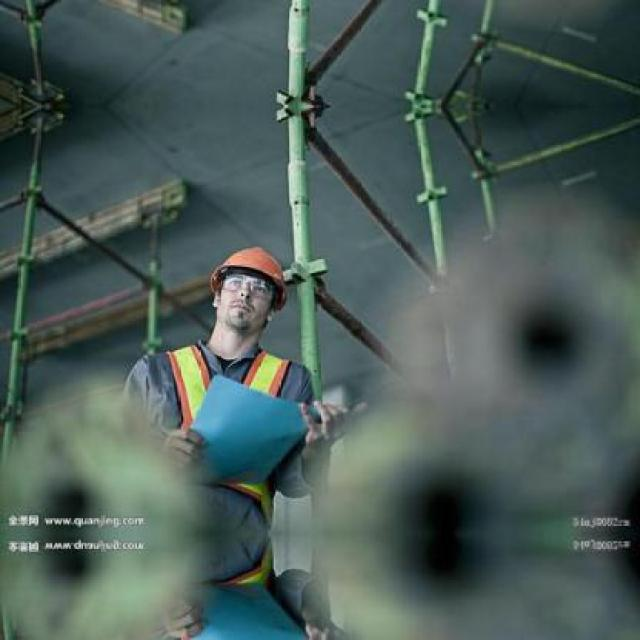helmet: (199, 228, 293, 350)
